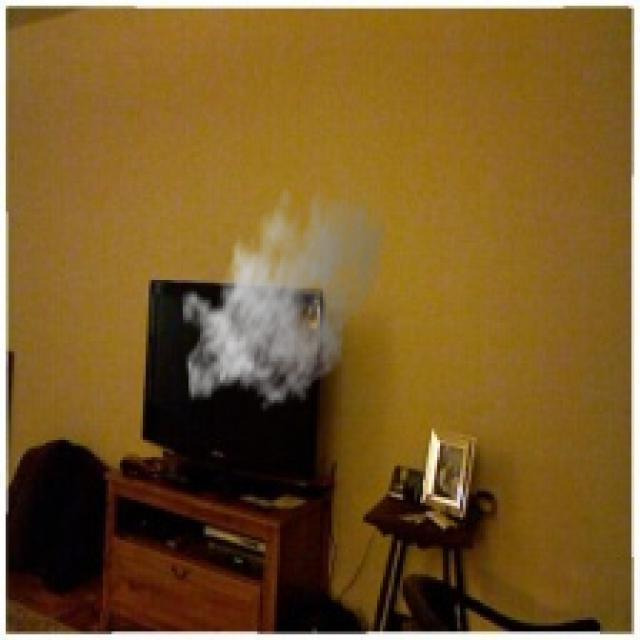Smoke: (180, 172, 389, 414)
